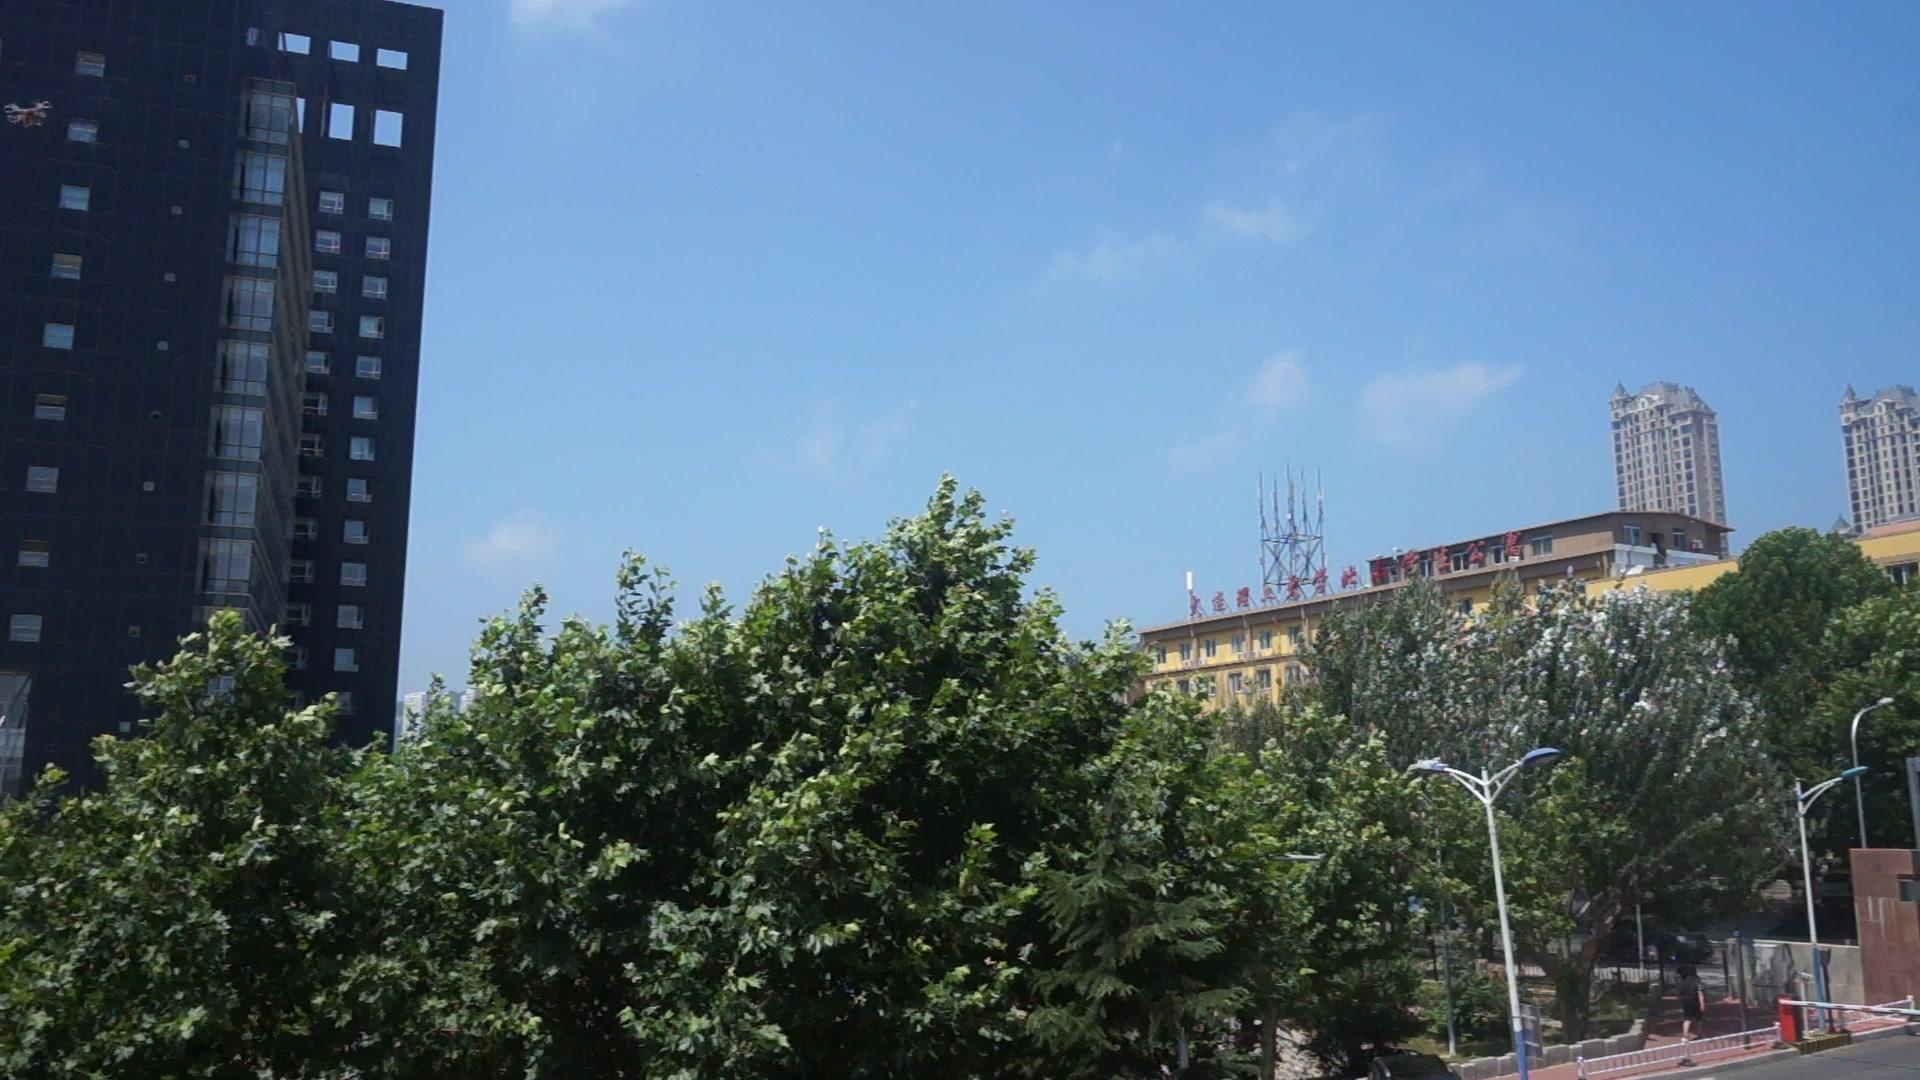UAV: (4, 100, 55, 129)
